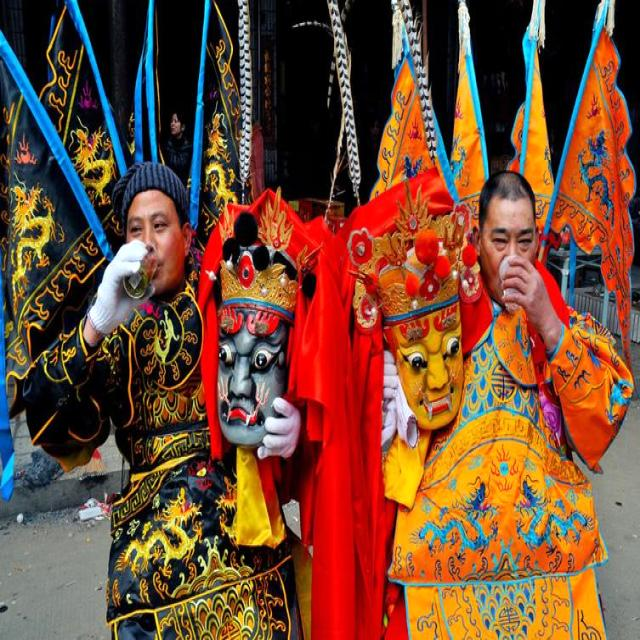Reeves-s Pheasant: (391, 0, 439, 161), (327, 0, 360, 204), (238, 0, 252, 184)
